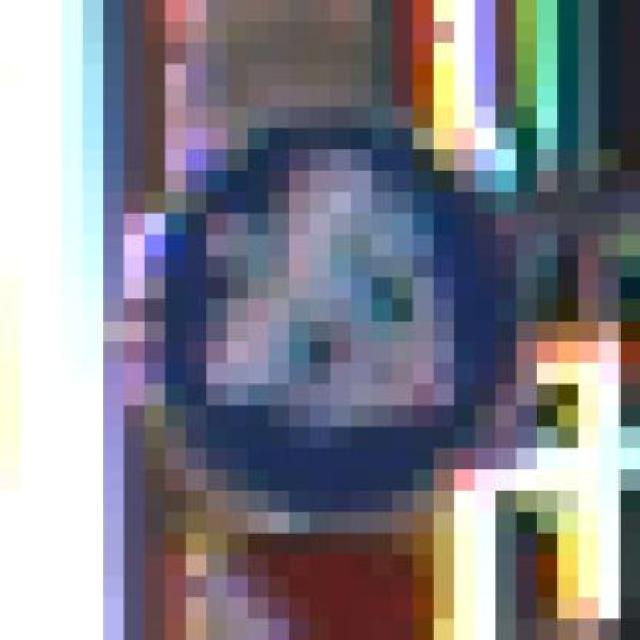Keep-Right: (124, 128, 558, 512)
